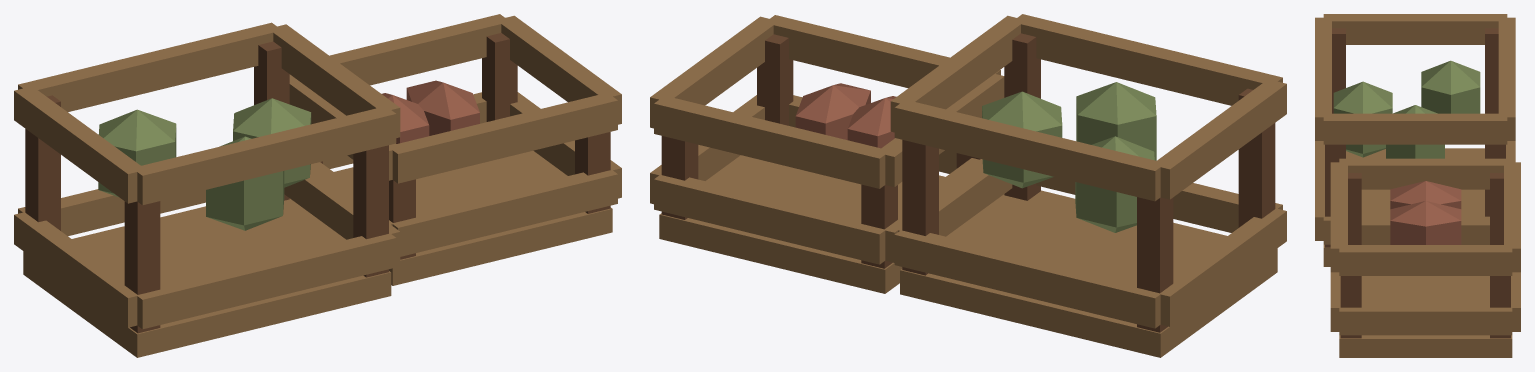
File: Prop_Daily_ProduceCrates_001_LOD1.glb
The picture shows the model from 3 angles, left to right: view 1: azimuth 30°, elevation 25°; view 2: azimuth 150°, elevation 25°; view 3: azimuth 270°, elevation 25°; orthographic projection. The views are drawn at different scales.
Parts seen in each view (by area): view 1: Prop_Daily_ProduceCrates_001_LOD1; view 2: Prop_Daily_ProduceCrates_001_LOD1; view 3: Prop_Daily_ProduceCrates_001_LOD1.
Part boxes in pixels (bbox=[...]): Prop_Daily_ProduceCrates_001_LOD1: bbox=[14, 14, 621, 357]; Prop_Daily_ProduceCrates_001_LOD1: bbox=[650, 14, 1286, 357]; Prop_Daily_ProduceCrates_001_LOD1: bbox=[1315, 14, 1520, 357].
Size of the model in its own units: 1.78 by 0.63 by 0.785.
